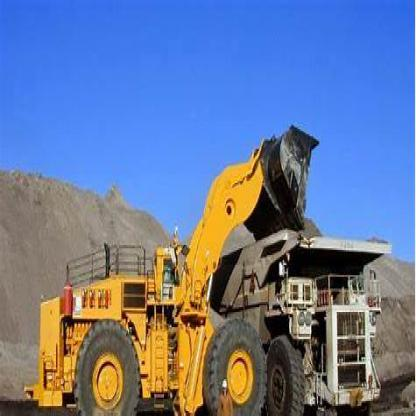bull_dozer/loader/grader: (24, 111, 320, 414)
